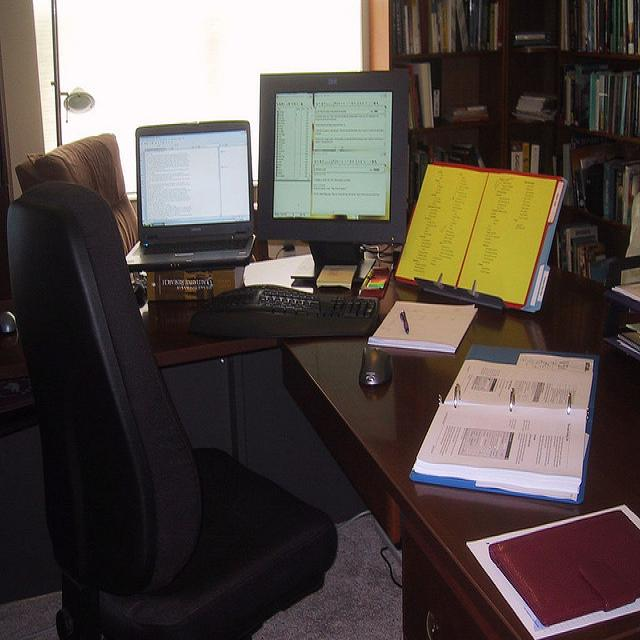Table: (0, 202, 602, 529), (304, 331, 640, 640)
chair: (2, 165, 314, 640), (0, 122, 122, 314)
